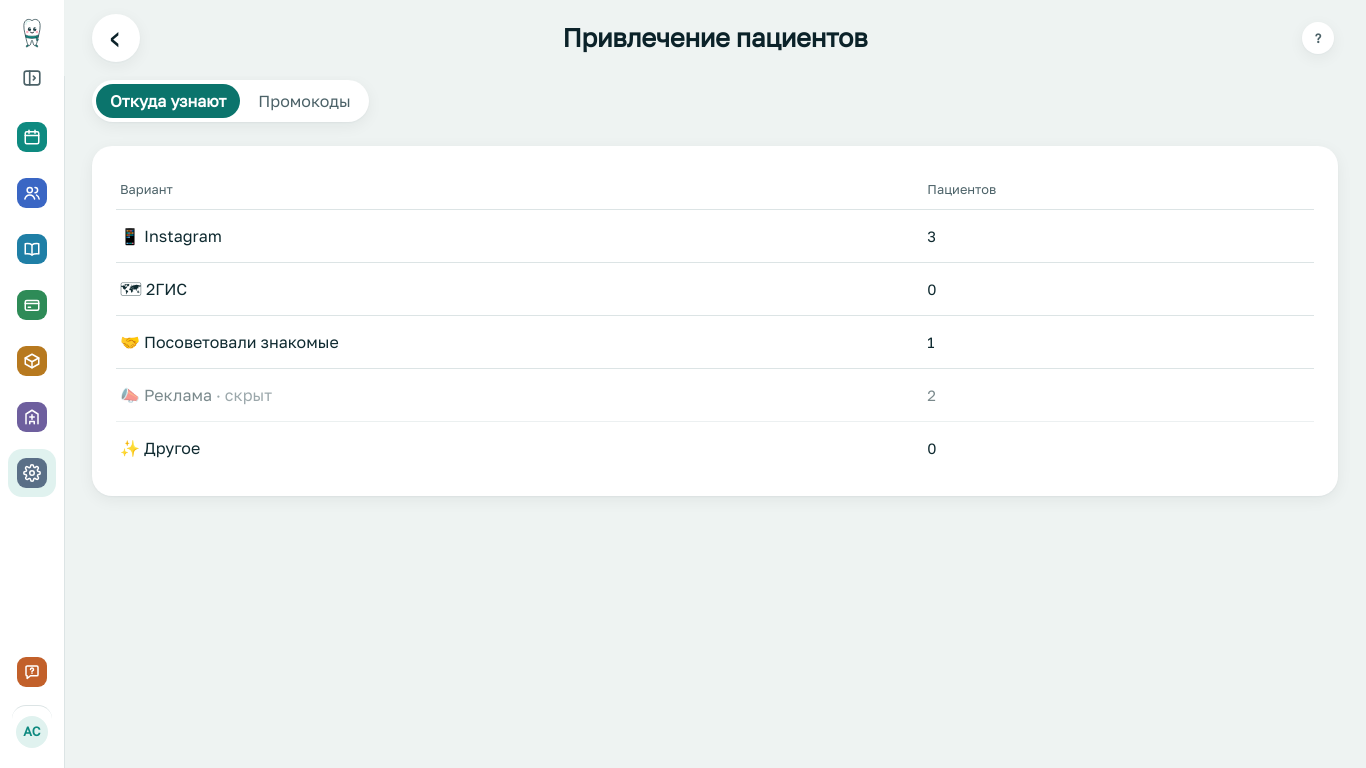
it: «Откуда узнают о клинике»: не админ только смотрит
Expected: the text "📱 Instagram" is shown, 116,210 -> 911,263
Note: Пояснение — в «?» у названия пункта
Click the button named "Подсказка: Откуда приходят пациенты".
click(1318, 38)  # box 1302,22 -> 1334,54
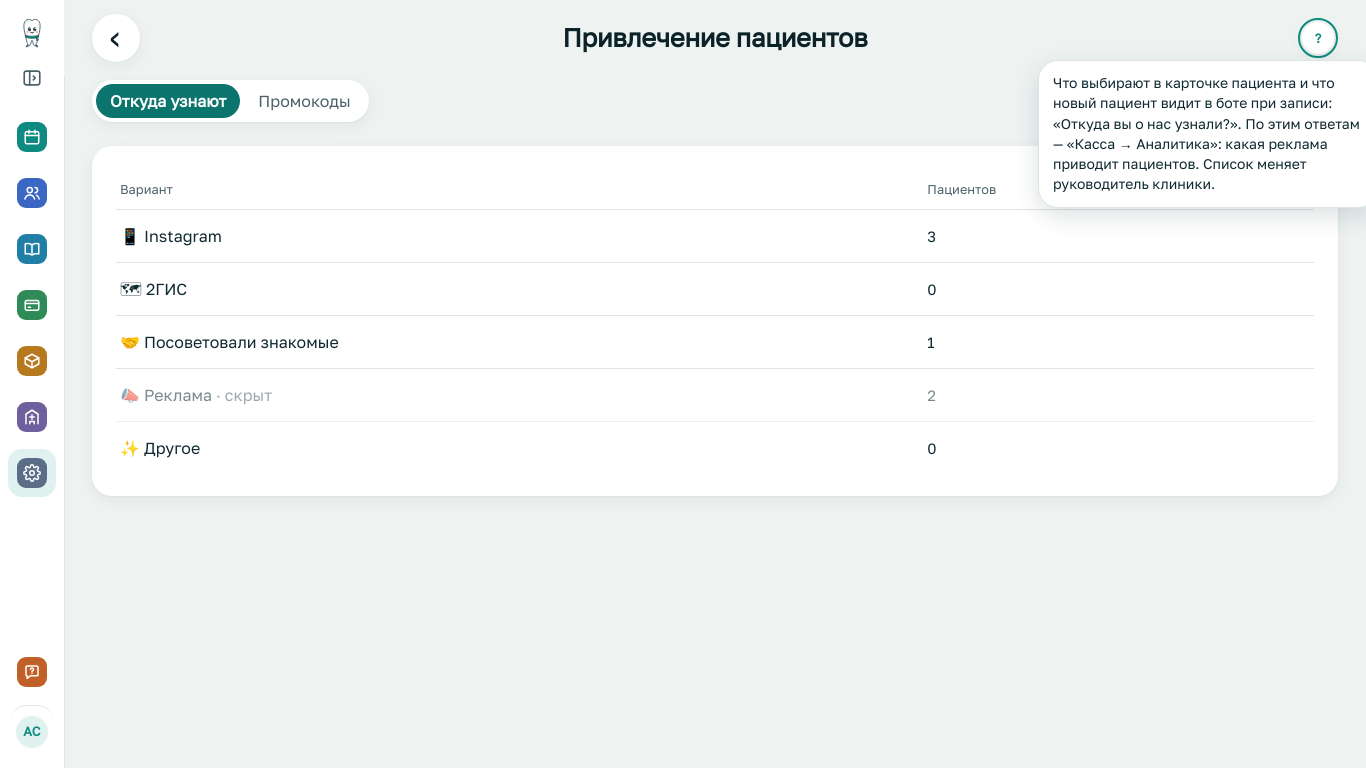
Result: the text "Список меняет руководитель клиники" is shown at 1053,155 -> 1307,192
